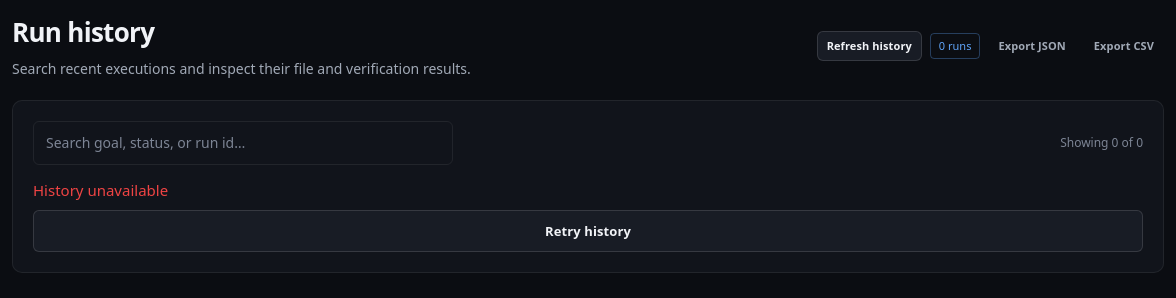
Test: Run history recovery › does not disguise a history fetch failure as an empty history
The image size is (1176, 298).
Check: the message shows "History unavailable", box [33,180,168,200]
Click the button "Retry history" at (588,231), box [33,210,1143,252]
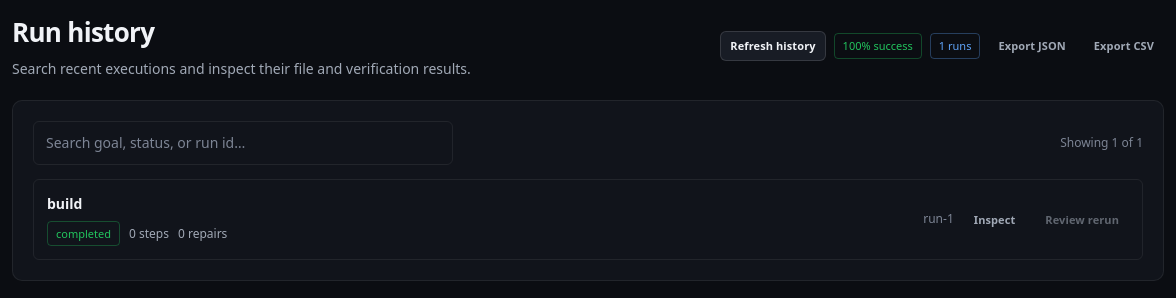
Check: the button "Inspect" is shown, box [964,205,1025,234]
